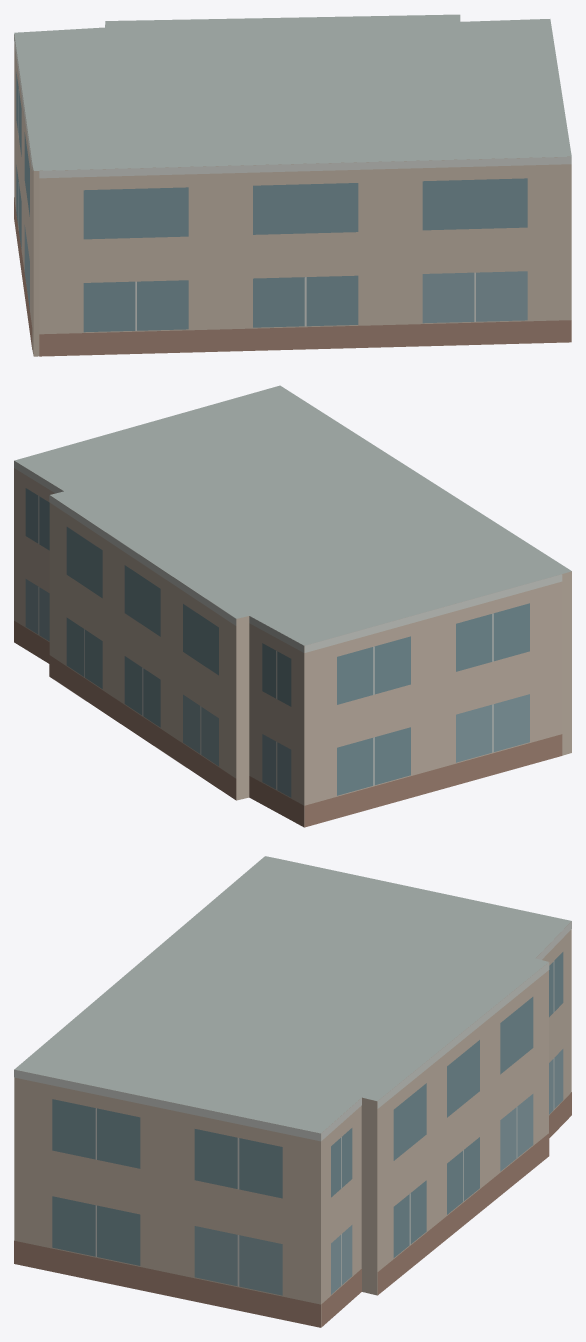
File: survey-upis-32893084.glb
3 views of the same model, one above another, from view 1: azimuth 30°, elevation 25°; view 2: azimuth 150°, elevation 25°; view 3: azimuth 270°, elevation 25° (orthographic). The views are drawn at different scales.
Visible parts, largest first — view 1: survey-upis-32893084.tmp; view 2: survey-upis-32893084.tmp; view 3: survey-upis-32893084.tmp.
Boxes of the visible parts, box(x1,y1,x2,y2) form: survey-upis-32893084.tmp: box(14, 14, 571, 356); survey-upis-32893084.tmp: box(14, 385, 571, 827); survey-upis-32893084.tmp: box(14, 856, 571, 1327).
Size of the model in its own units: 18.38 by 6 by 15.62.
